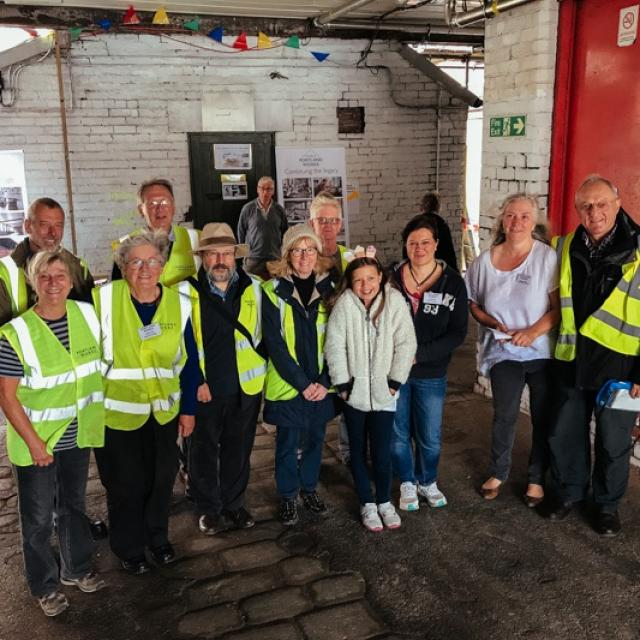body: (0, 246, 114, 623), (83, 221, 202, 580), (0, 194, 110, 545), (546, 167, 639, 541), (462, 184, 568, 512), (173, 213, 268, 536), (322, 251, 419, 535), (381, 212, 472, 514), (258, 222, 345, 528), (308, 188, 357, 466), (108, 174, 209, 289), (400, 191, 461, 275), (236, 176, 292, 266), (496, 115, 516, 134), (309, 174, 335, 187), (223, 182, 246, 195)
